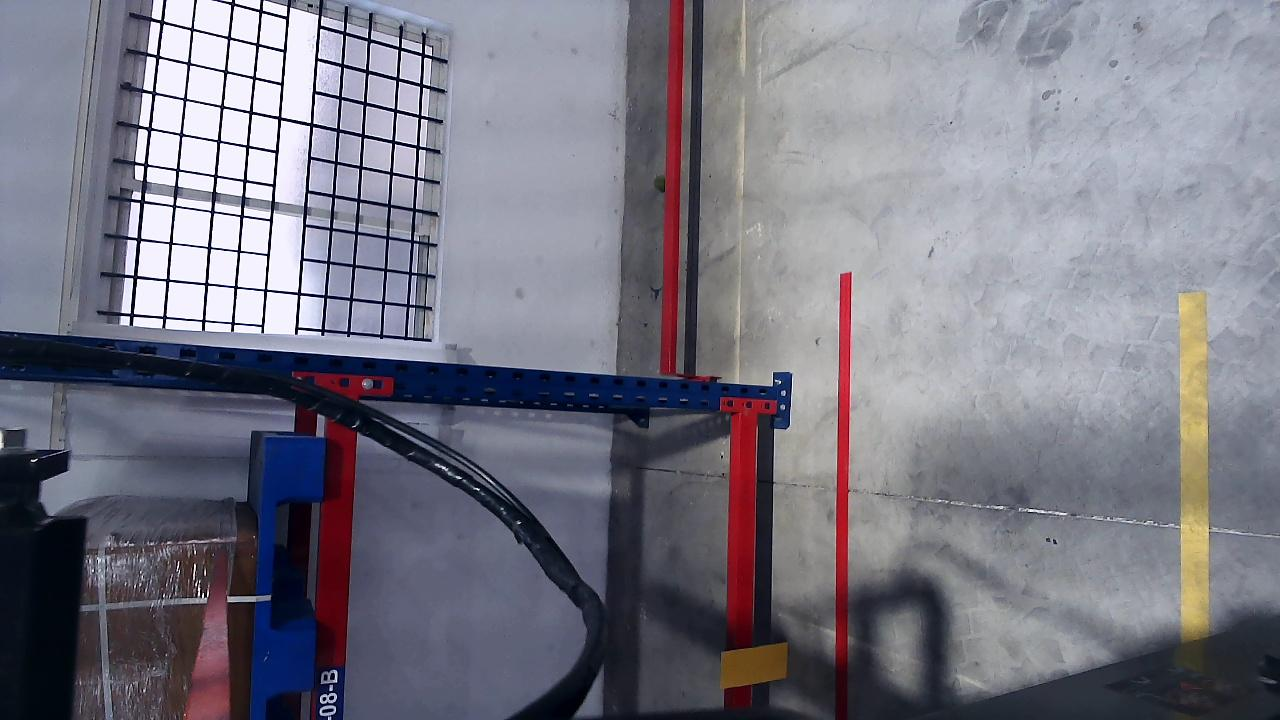h_rack: (307, 429, 362, 713), (729, 412, 760, 712)
orange_strip: (720, 643, 788, 688)
red_line: (835, 272, 851, 720)
small_pallet: (245, 437, 328, 718)
yellow_line: (1177, 291, 1210, 640)
